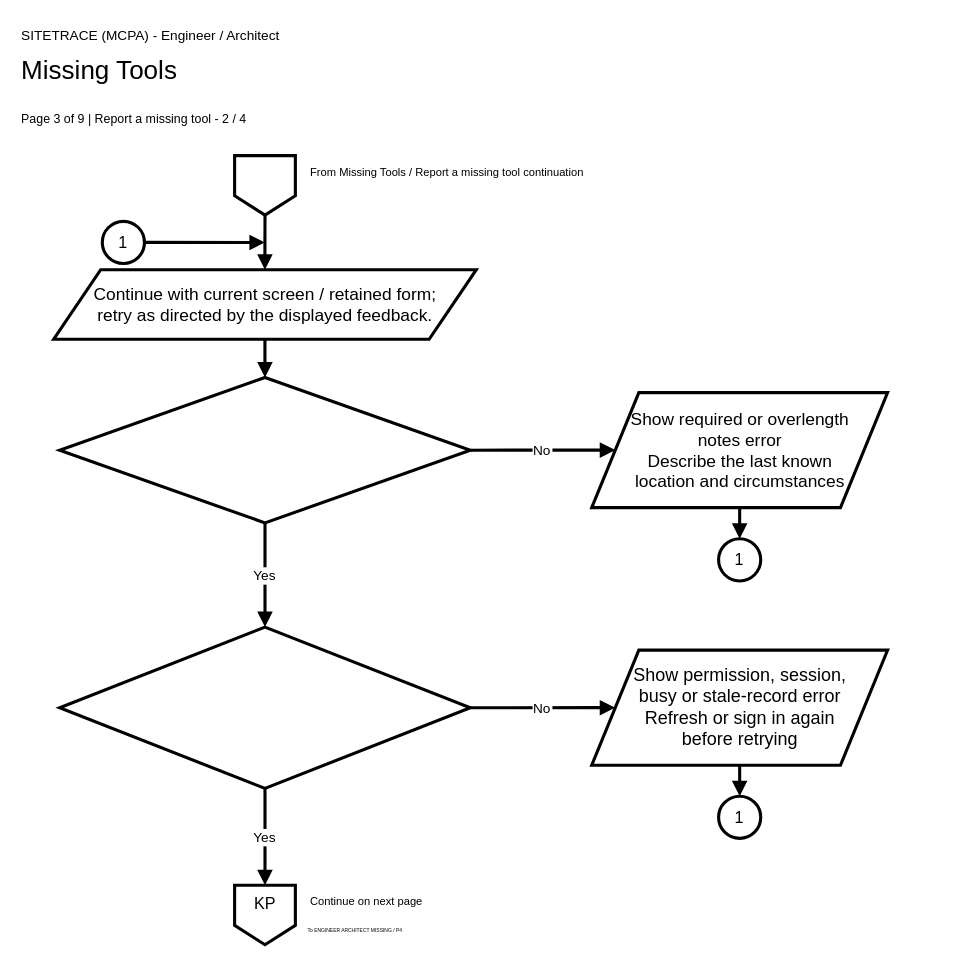
Some shapes in this 968 by 967 pixel diagram are drawn without their labels. Here are the shapes that lost their labels. From the top down, the centre of each, then its label:
(x=264, y=185): KO
(x=264, y=449): Missing details valid?
(x=264, y=707): Live account, action permission and latest records ready?
